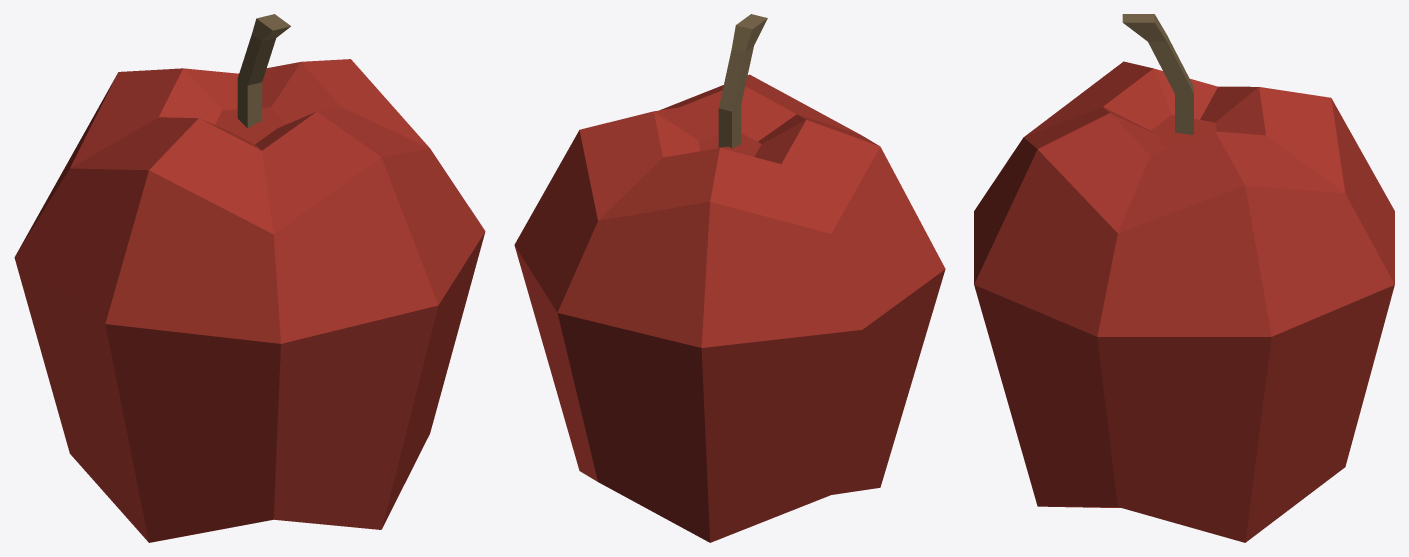
The model's file is SM_Envr_Nature_Farm_Fruit_Apple.fbx.
3 renders of one model, left to right at view 1: azimuth 30°, elevation 25°; view 2: azimuth 150°, elevation 25°; view 3: azimuth 270°, elevation 25°, orthographic. The views are drawn at different scales.
Visible parts, largest first — view 1: SM_Envr_Nature_Farm_Fruit_Apple; view 2: SM_Envr_Nature_Farm_Fruit_Apple; view 3: SM_Envr_Nature_Farm_Fruit_Apple.
Part boxes in pixels (box(x1,y1,x2,y2)): SM_Envr_Nature_Farm_Fruit_Apple: box(14, 14, 485, 542); SM_Envr_Nature_Farm_Fruit_Apple: box(514, 14, 945, 542); SM_Envr_Nature_Farm_Fruit_Apple: box(974, 14, 1394, 542).
Bounding box in the file's own units: 16.26 × 20.32 × 16.26.
